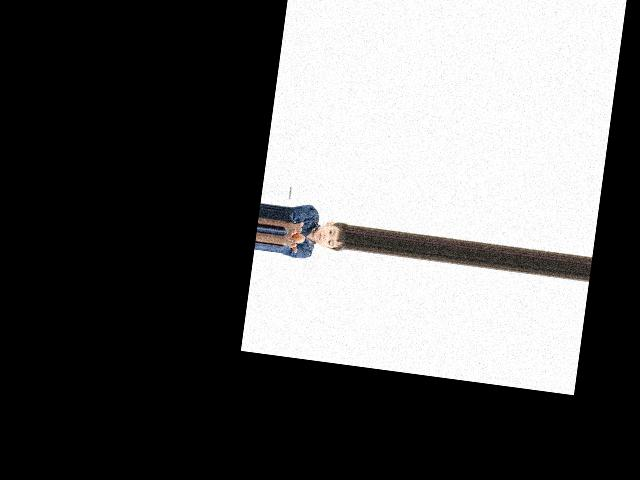egg: (291, 232, 305, 243)
